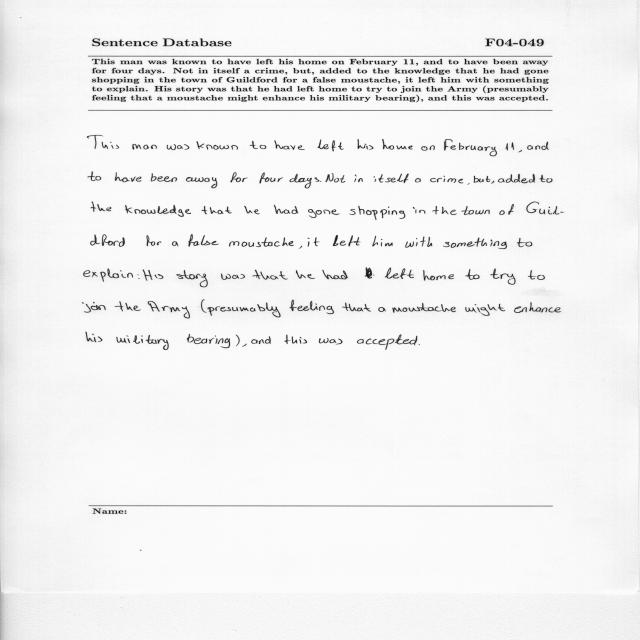word: (208, 303, 281, 318), (357, 334, 417, 350), (444, 139, 497, 156), (116, 335, 169, 350), (125, 205, 191, 217), (350, 206, 406, 220), (148, 301, 190, 318), (443, 238, 507, 249), (229, 237, 294, 247), (392, 303, 456, 313), (84, 269, 133, 282), (289, 300, 334, 314), (187, 334, 230, 348), (365, 268, 414, 279), (177, 270, 208, 287), (514, 302, 561, 313), (527, 202, 564, 215), (465, 304, 505, 316), (290, 174, 320, 189), (87, 135, 119, 149), (91, 234, 125, 247), (490, 268, 516, 285), (189, 234, 219, 247), (196, 141, 238, 150), (374, 173, 409, 183), (253, 270, 288, 280), (382, 139, 413, 150), (186, 177, 217, 188), (424, 270, 455, 281), (498, 174, 535, 183), (317, 140, 344, 152), (274, 140, 305, 150), (333, 235, 361, 246), (405, 237, 432, 248), (308, 209, 339, 218), (430, 176, 464, 184), (260, 173, 284, 184), (461, 206, 490, 215), (342, 303, 371, 312), (115, 172, 141, 182), (115, 302, 141, 312), (83, 302, 106, 313), (143, 269, 163, 281), (151, 173, 177, 182), (322, 270, 348, 279), (202, 206, 231, 214), (432, 206, 457, 215), (274, 205, 298, 214), (372, 236, 393, 246), (284, 335, 307, 344), (326, 173, 346, 183), (91, 202, 111, 212), (231, 172, 248, 183), (358, 139, 374, 150), (527, 142, 549, 150), (296, 270, 315, 279), (528, 270, 545, 280), (221, 273, 245, 280), (499, 204, 514, 215), (147, 235, 162, 246), (86, 332, 102, 342), (251, 336, 271, 344), (466, 269, 480, 280), (132, 144, 157, 150), (319, 338, 343, 344), (517, 238, 532, 247), (167, 144, 189, 150), (250, 141, 266, 149), (244, 206, 260, 214), (308, 237, 320, 247), (474, 176, 491, 183), (88, 172, 101, 181), (540, 175, 553, 183), (421, 145, 435, 151), (413, 207, 425, 214), (201, 300, 207, 313), (506, 142, 514, 151), (354, 175, 363, 183), (236, 335, 240, 346), (379, 307, 386, 312), (172, 242, 178, 247), (415, 178, 421, 182), (137, 274, 140, 279), (242, 344, 246, 347), (492, 181, 495, 184), (299, 246, 302, 249), (518, 150, 522, 152), (468, 183, 470, 185), (320, 181, 322, 182), (419, 344, 420, 345)
